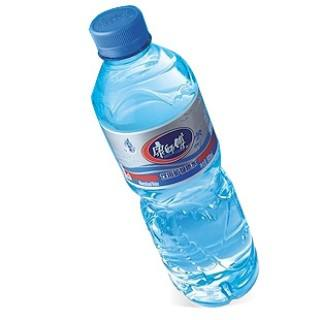amwater: (83, 1, 276, 316)
